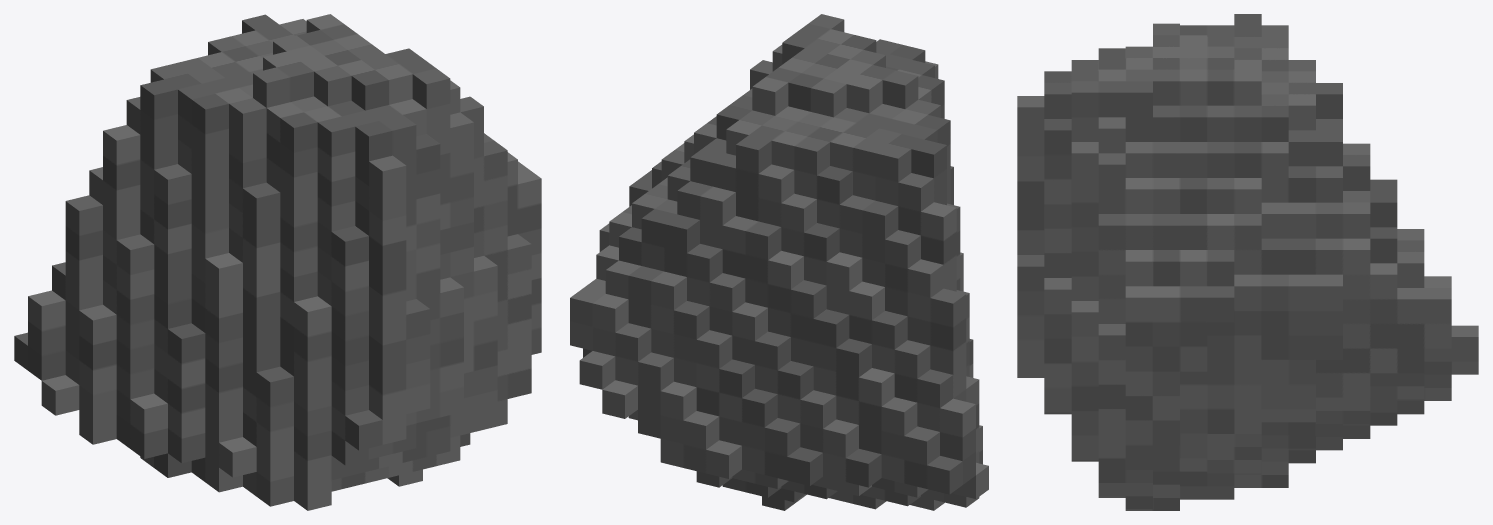
Rendered from Asteroid_A9.fbx.
3 renders of one model, left to right at view 1: azimuth 30°, elevation 25°; view 2: azimuth 150°, elevation 25°; view 3: azimuth 270°, elevation 25°, orthographic. The views are drawn at different scales.
Visible parts, largest first — view 1: T1-8; view 2: T1-8; view 3: T1-8.
Boxes of the visible parts, <box> form: T1-8: <box>14,14,541,510</box>; T1-8: <box>570,14,988,510</box>; T1-8: <box>1017,14,1478,510</box>.
Bounding box in the file's own units: 170 × 170 × 170.
